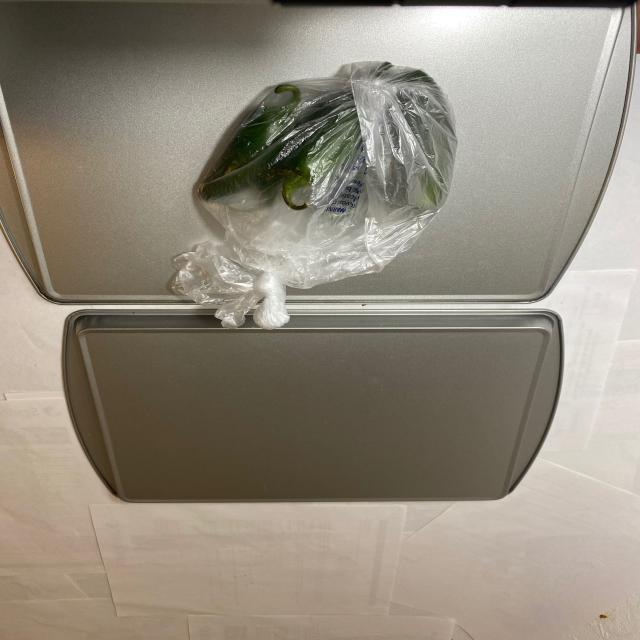chilli: (188, 66, 464, 243)
